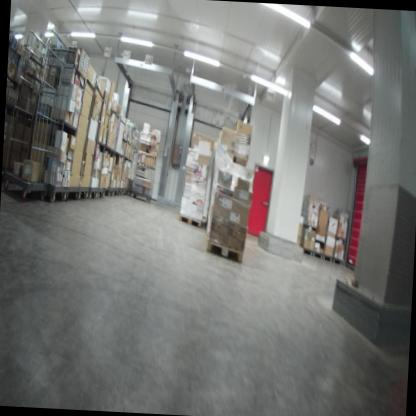pallet: (202, 232, 244, 259), (177, 212, 205, 229)
